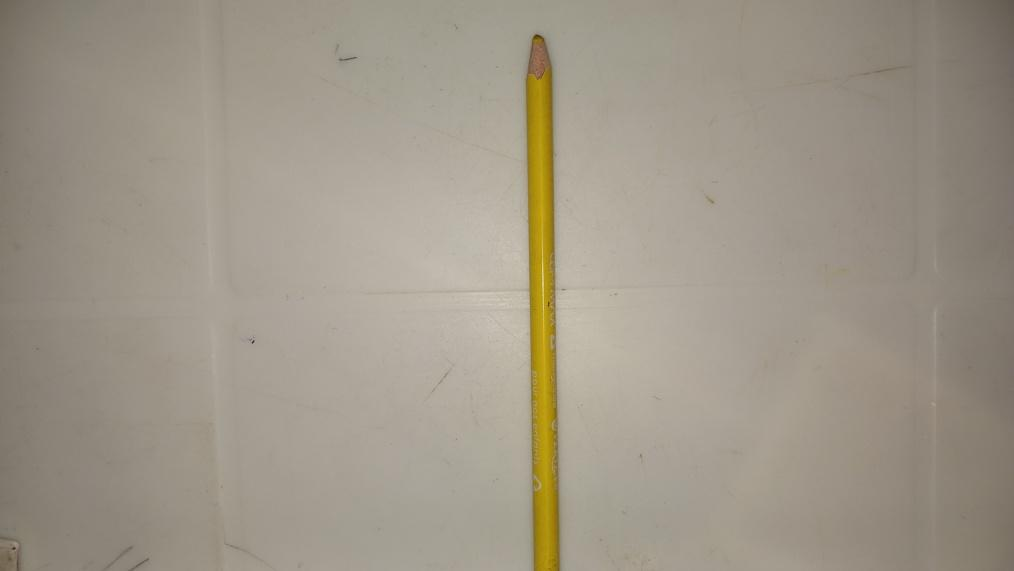Pencil: (530, 31, 557, 571)
